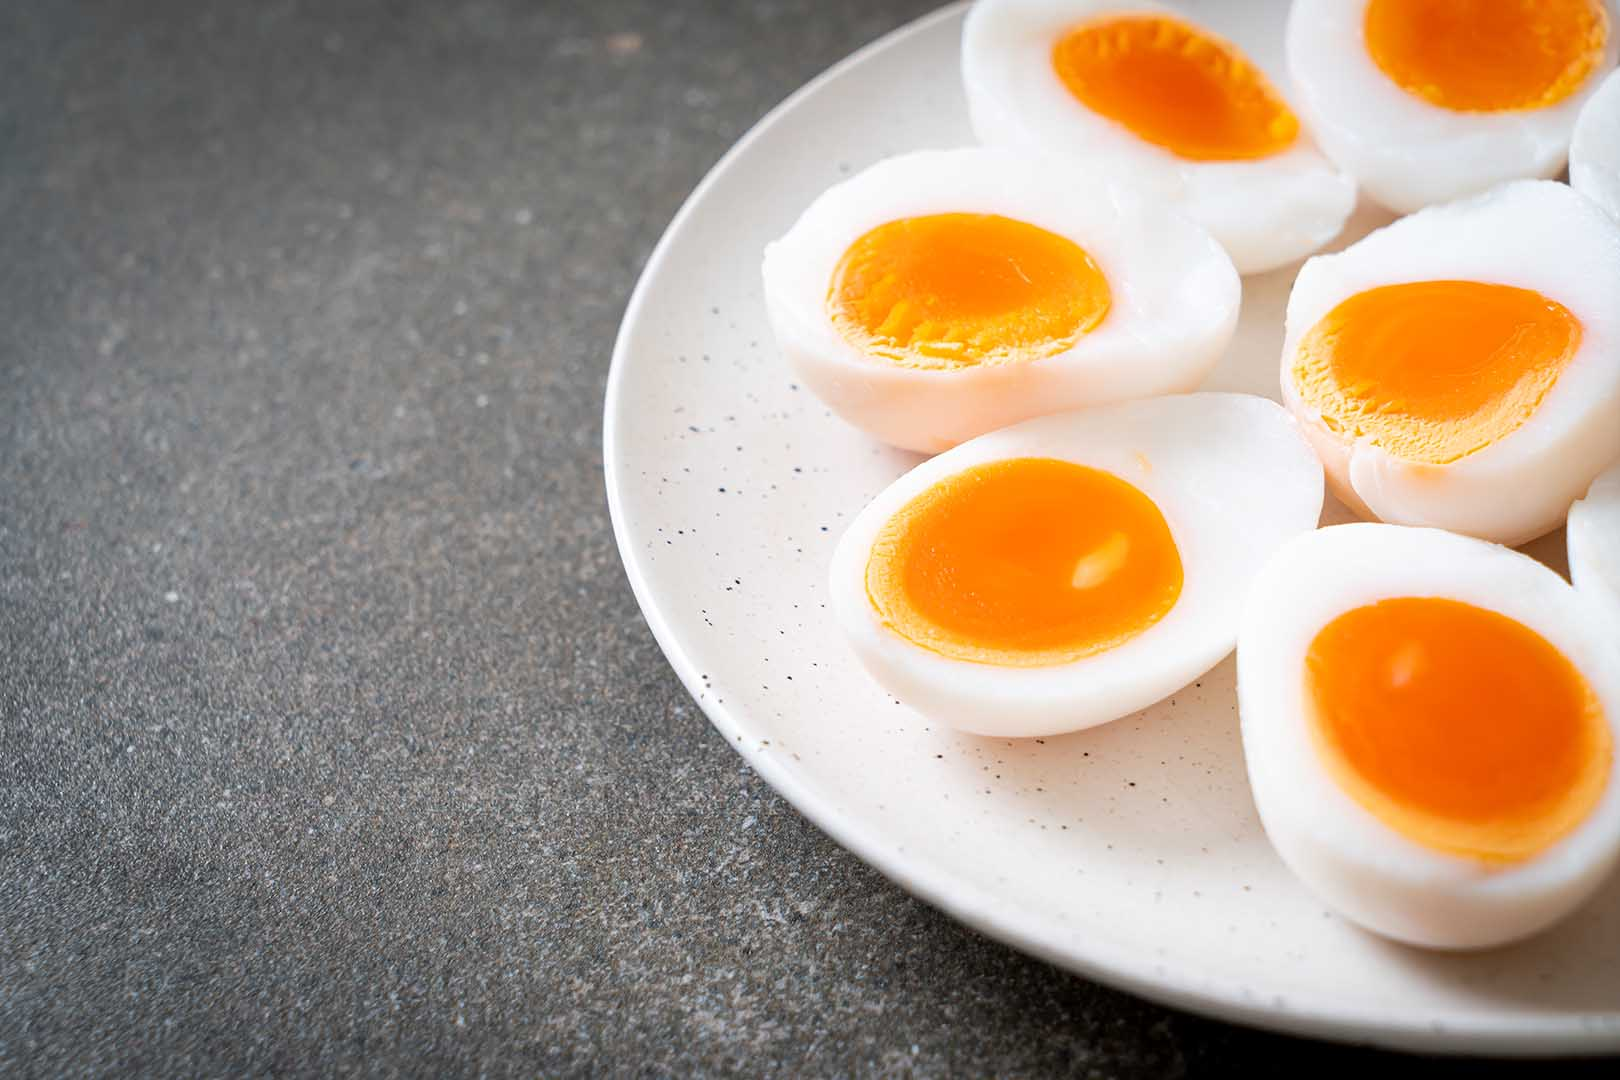Telur: (867, 381, 1332, 732), (1305, 548, 1589, 925), (1222, 233, 1556, 503), (741, 199, 1128, 425), (1000, 7, 1330, 233)
